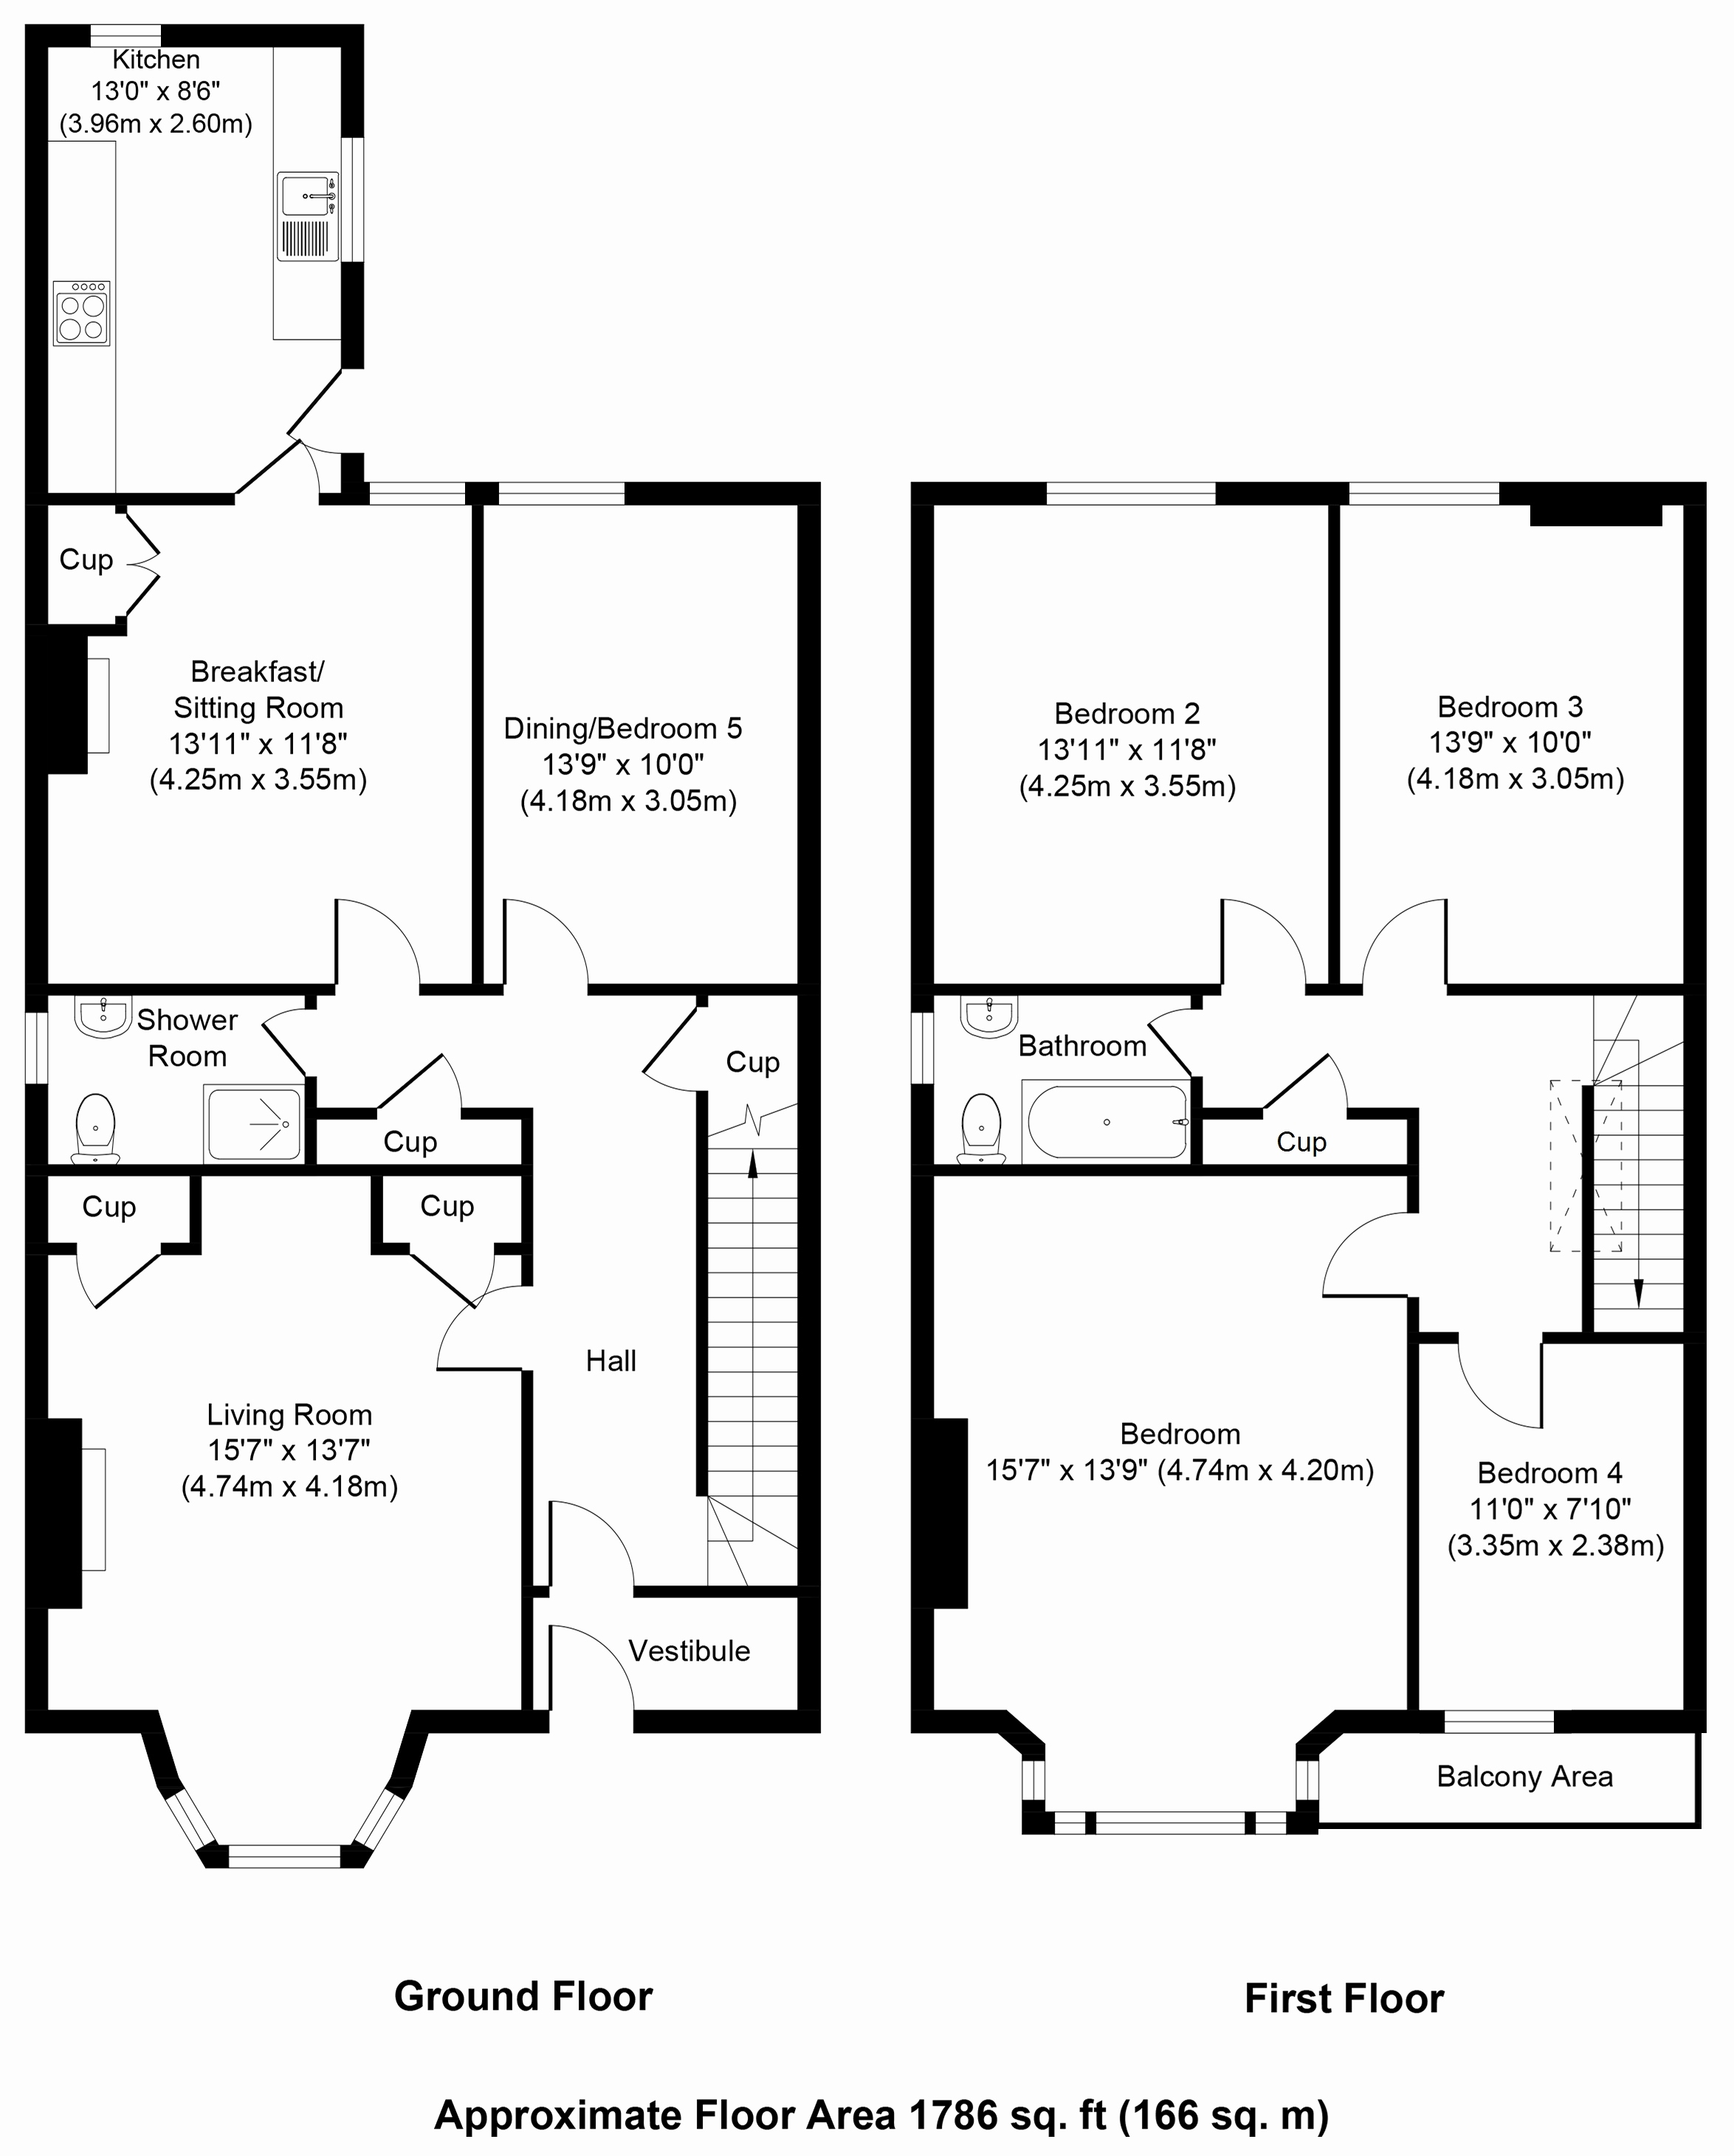wall: (915, 479, 936, 1719), (1693, 497, 1700, 1719), (922, 1077, 932, 1719), (807, 493, 812, 1721), (1408, 1295, 1417, 1719), (701, 1098, 708, 1496), (1555, 1326, 1711, 1342), (522, 1380, 529, 1719), (1587, 1084, 1596, 1353), (46, 1091, 50, 1721), (1495, 483, 1681, 493), (1331, 497, 1334, 994), (936, 1167, 1416, 1171), (593, 983, 798, 990), (163, 30, 361, 37), (630, 486, 821, 493), (1318, 1825, 1690, 1829), (304, 1077, 317, 1167), (922, 987, 1230, 990), (35, 983, 326, 987), (349, 37, 357, 147), (32, 1166, 522, 1167), (1446, 983, 1690, 987), (480, 501, 481, 987), (42, 490, 234, 493), (633, 1586, 812, 1590), (1562, 1721, 1720, 1724), (1217, 486, 1348, 490)
